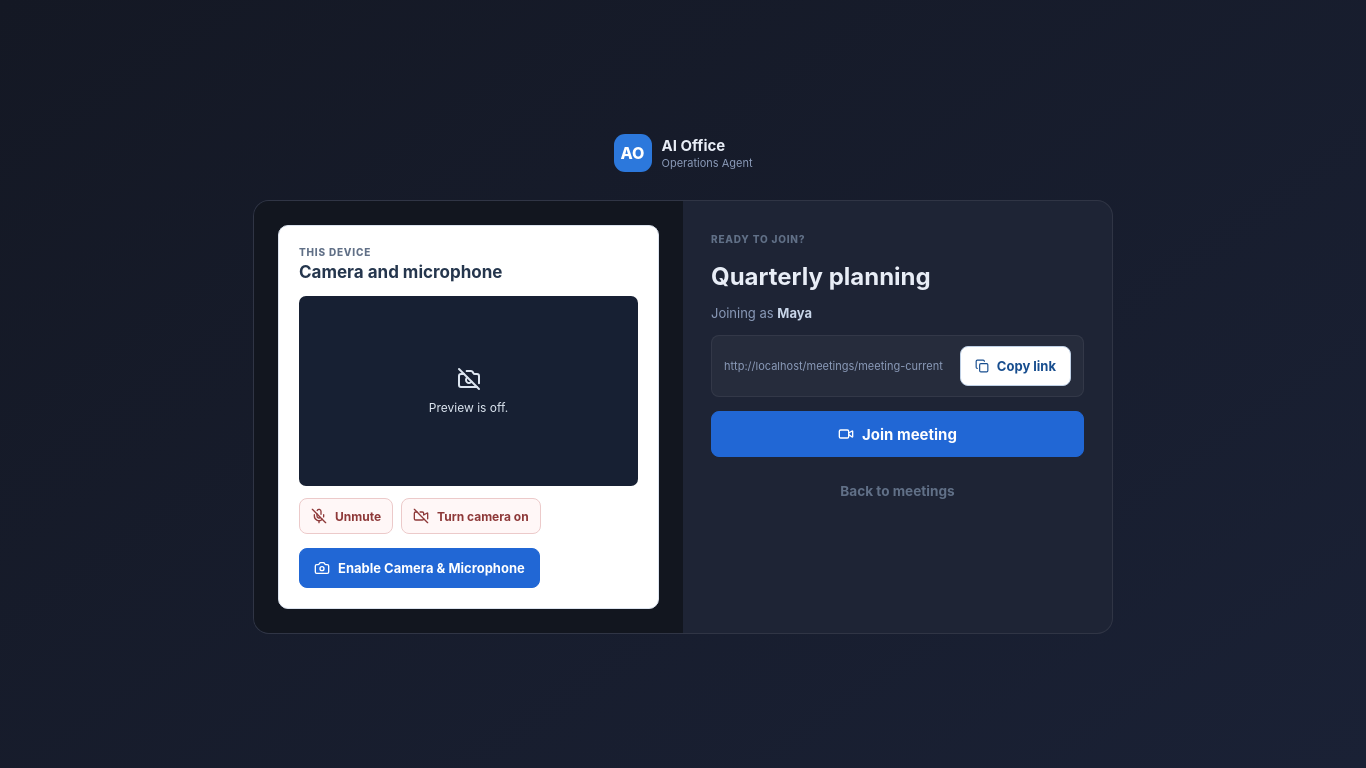
Test: MeetingRoomPage recording with a muted microphone › warns that a muted microphone is not being recorded
Click the button "Join meeting" at (898, 434), box [711,412,1084,458]
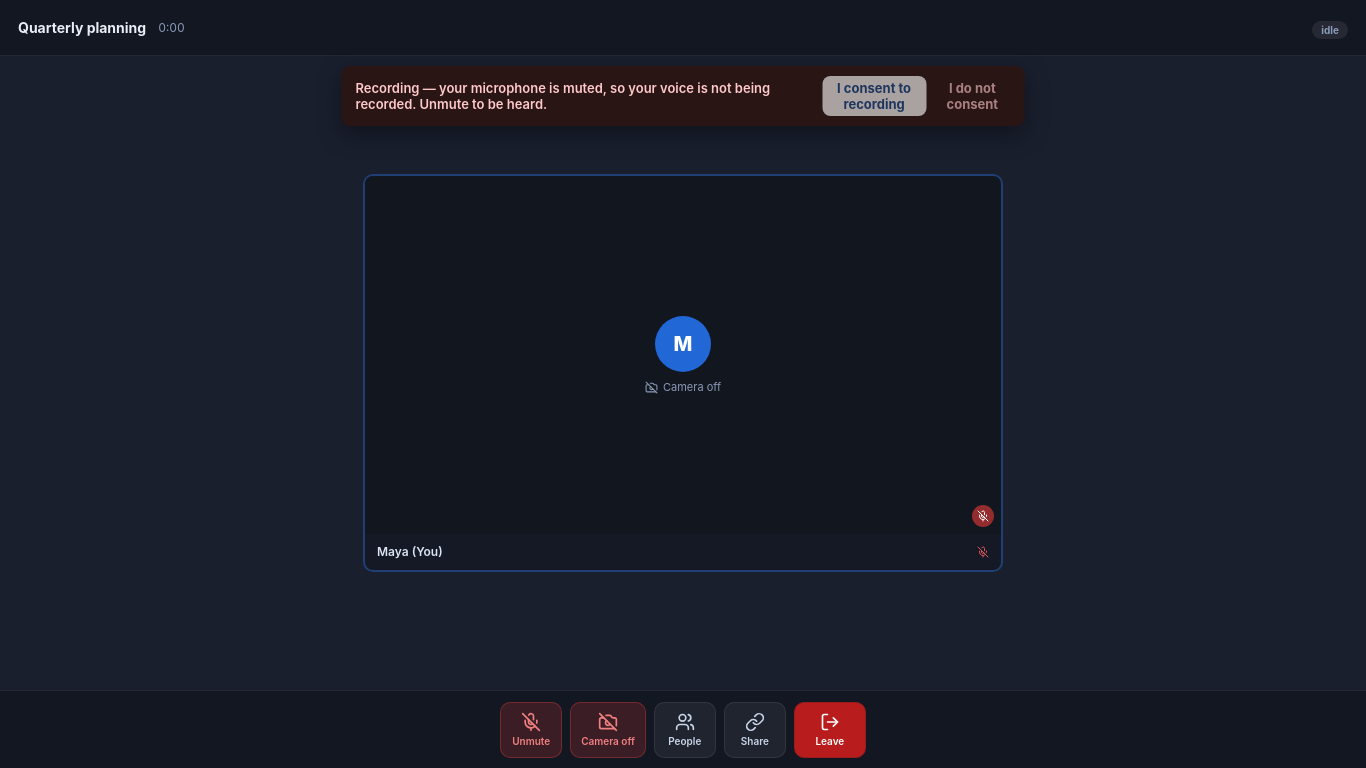
expect the text "your microphone is muted, so your voice is not being recorded" is shown: met, box [356,80,770,112]
